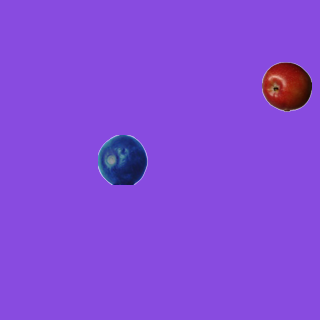Apple Braeburn: (261, 61, 311, 111)
Huckleberry: (97, 134, 147, 184)
